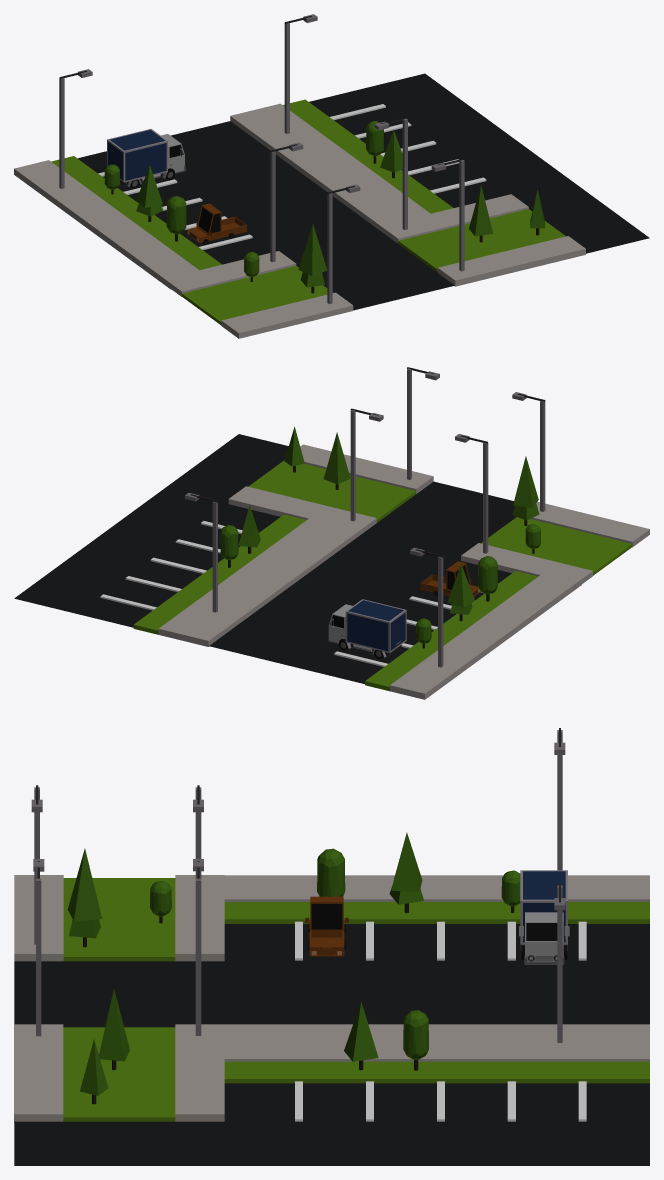
The model's file is parking-lot.obj.
3 renders of one model, top to bottom at view 1: azimuth 30°, elevation 25°; view 2: azimuth 150°, elevation 25°; view 3: azimuth 270°, elevation 25°, orthographic. The views are drawn at different scales.
Visible parts, largest first — view 1: Plane_Plane.008, Cube.905_Cube.3610, Cube.030_Cube.042, Cube.916_Cube.3629, CarColored.000_Cube.3470, Cube.024_Cube.041, Cone.005_Cone.031, Icosphere.164_Icosphere.194, Cone.003_Cone.029, Cube.032_Cube.028, Cube.040_Cube.044, Cube.003_Cube.010 (+7 smaller); view 2: Plane_Plane.008, Cube.905_Cube.3610, Cube.030_Cube.042, Cube.916_Cube.3629, Cube.024_Cube.041, CarColored.000_Cube.3470, Cone.003_Cone.029, Cone.005_Cone.031, Icosphere.164_Icosphere.194, Cube.032_Cube.028, Cube.003_Cube.010, Cube.037_Cube.038 (+7 smaller); view 3: Plane_Plane.008, Cube.905_Cube.3610, Cube.030_Cube.042, Cube.916_Cube.3629, CarColored.000_Cube.3470, Cube.024_Cube.041, Cube.000_Cube.007, Cone.005_Cone.031, Cone.003_Cone.029, Icosphere.164_Icosphere.194, Icosphere.163_Icosphere.193, Cone.001_Cone.027 (+8 smaller).
Part boxes in pixels (x1,y1,x2,y2): Plane_Plane.008: (77, 73, 649, 310); Cube.905_Cube.3610: (14, 99, 585, 289); Cube.030_Cube.042: (164, 251, 353, 338); Cube.916_Cube.3629: (107, 129, 185, 188); CarColored.000_Cube.3470: (187, 203, 247, 244); Cube.024_Cube.041: (330, 104, 486, 193); Cone.005_Cone.031: (298, 223, 327, 276); Icosphere.164_Icosphere.194: (166, 196, 186, 234); Cone.003_Cone.029: (469, 184, 493, 236); Cube.032_Cube.028: (402, 118, 407, 229); Cube.040_Cube.044: (459, 160, 464, 271); Cube.003_Cube.010: (59, 78, 64, 188); Plane_Plane.008: (14, 434, 516, 683); Cube.905_Cube.3610: (133, 444, 581, 699); Cube.030_Cube.042: (461, 501, 649, 588); Cube.916_Cube.3629: (327, 599, 406, 658); Cube.024_Cube.041: (100, 521, 242, 610); CarColored.000_Cube.3470: (420, 561, 480, 596); Cone.003_Cone.029: (323, 432, 350, 484); Cone.005_Cone.031: (513, 456, 538, 507); Icosphere.164_Icosphere.194: (478, 556, 497, 594); Cube.032_Cube.028: (350, 410, 355, 521); Cube.003_Cube.010: (438, 556, 443, 667); Cube.037_Cube.038: (212, 501, 217, 612); Plane_Plane.008: (14, 924, 649, 1165); Cube.905_Cube.3610: (14, 875, 649, 1122); Cube.030_Cube.042: (14, 875, 224, 961); Cube.916_Cube.3629: (519, 870, 569, 964); CarColored.000_Cube.3470: (305, 896, 348, 956); Cube.024_Cube.041: (295, 1081, 586, 1121); Cube.000_Cube.007: (295, 921, 586, 960); Cone.005_Cone.031: (67, 848, 101, 921); Cone.003_Cone.029: (99, 989, 129, 1061); Icosphere.164_Icosphere.194: (317, 848, 345, 896); Icosphere.163_Icosphere.193: (403, 1010, 428, 1059); Cone.001_Cone.027: (344, 1001, 378, 1061).
Size of the model in its own units: 4.1 by 1.12 by 3.89.
